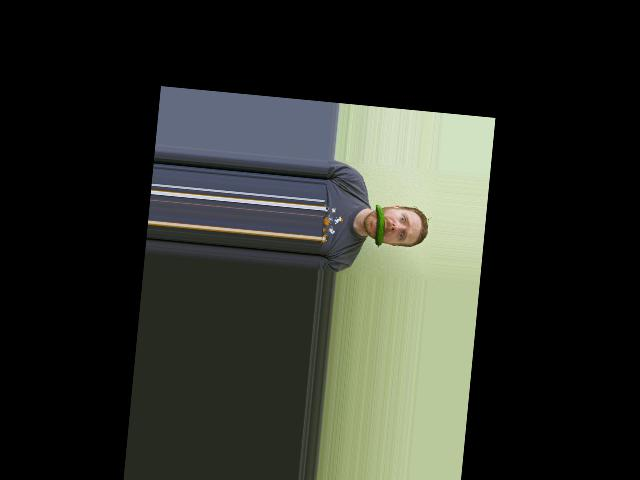cucumber: (371, 203, 386, 247)
